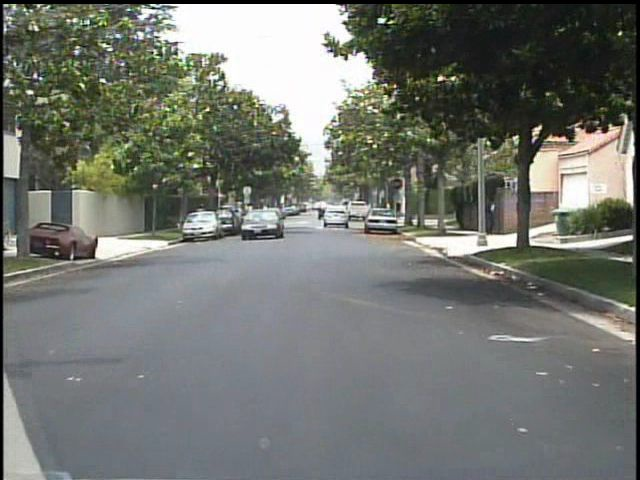person: (486, 192, 500, 237), (193, 201, 209, 232)
